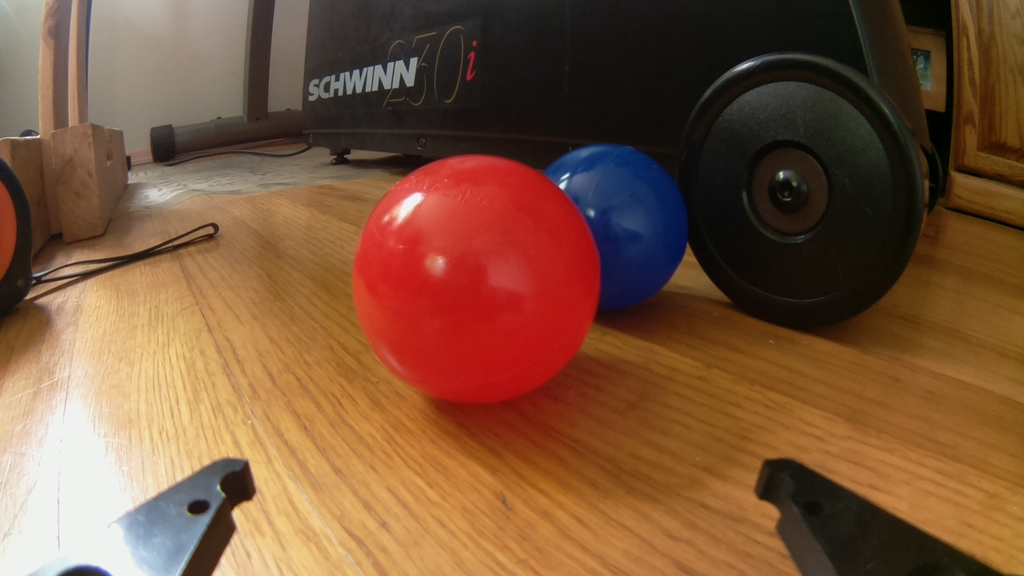ball: (348, 150, 603, 411)
